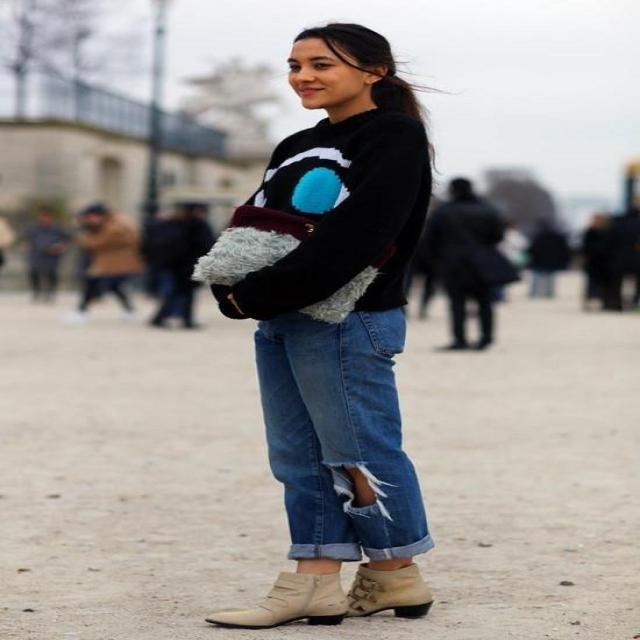pants: (254, 292, 437, 560)
sweater: (209, 105, 431, 316)
